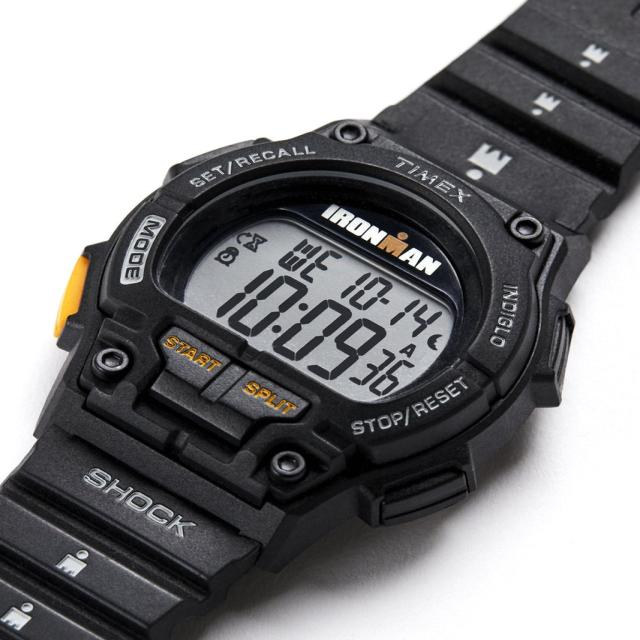watch: (58, 120, 574, 560)
